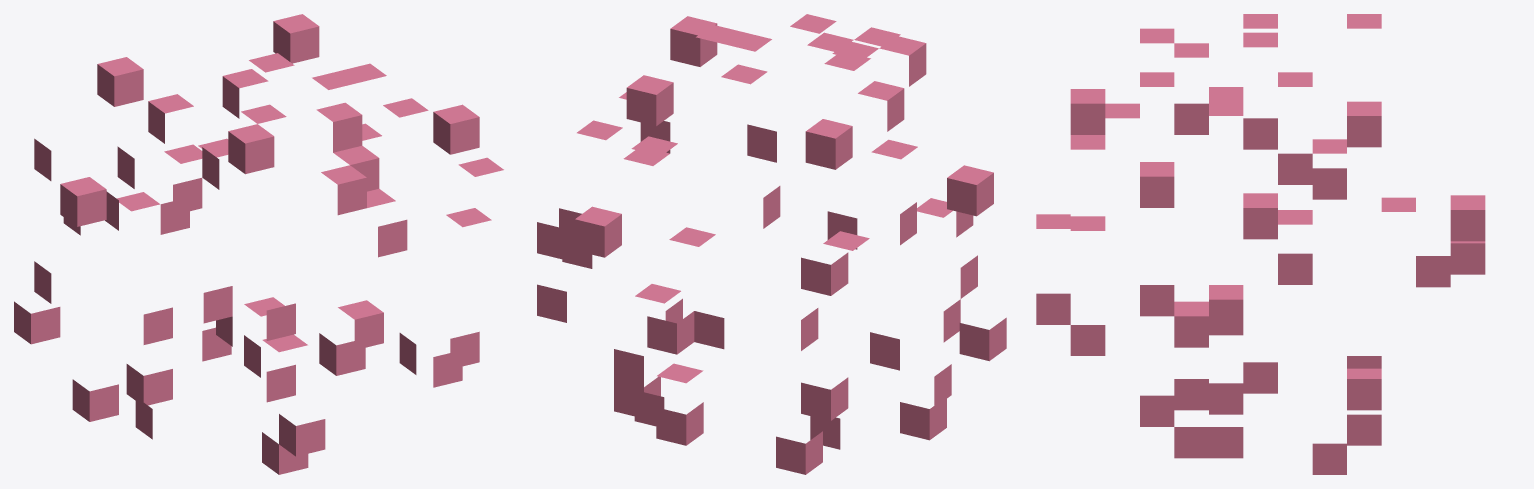
The model's file is tree-cherry-1p25-white-e77fa0.gltf.
3 renders of one model, left to right at view 1: azimuth 30°, elevation 25°; view 2: azimuth 150°, elevation 25°; view 3: azimuth 270°, elevation 25°, orthographic. The views are drawn at different scales.
Parts seen in each view (by area): view 1: tree-cherry-1p25-white-e77fa0; view 2: tree-cherry-1p25-white-e77fa0; view 3: tree-cherry-1p25-white-e77fa0.
Boxes of the visible parts, box(x1,y1,x2,y2) form: tree-cherry-1p25-white-e77fa0: box(14, 14, 503, 474); tree-cherry-1p25-white-e77fa0: box(537, 14, 1006, 474); tree-cherry-1p25-white-e77fa0: box(1036, 14, 1485, 474).
Bounding box in the file's own units: 15 × 11 × 14.
